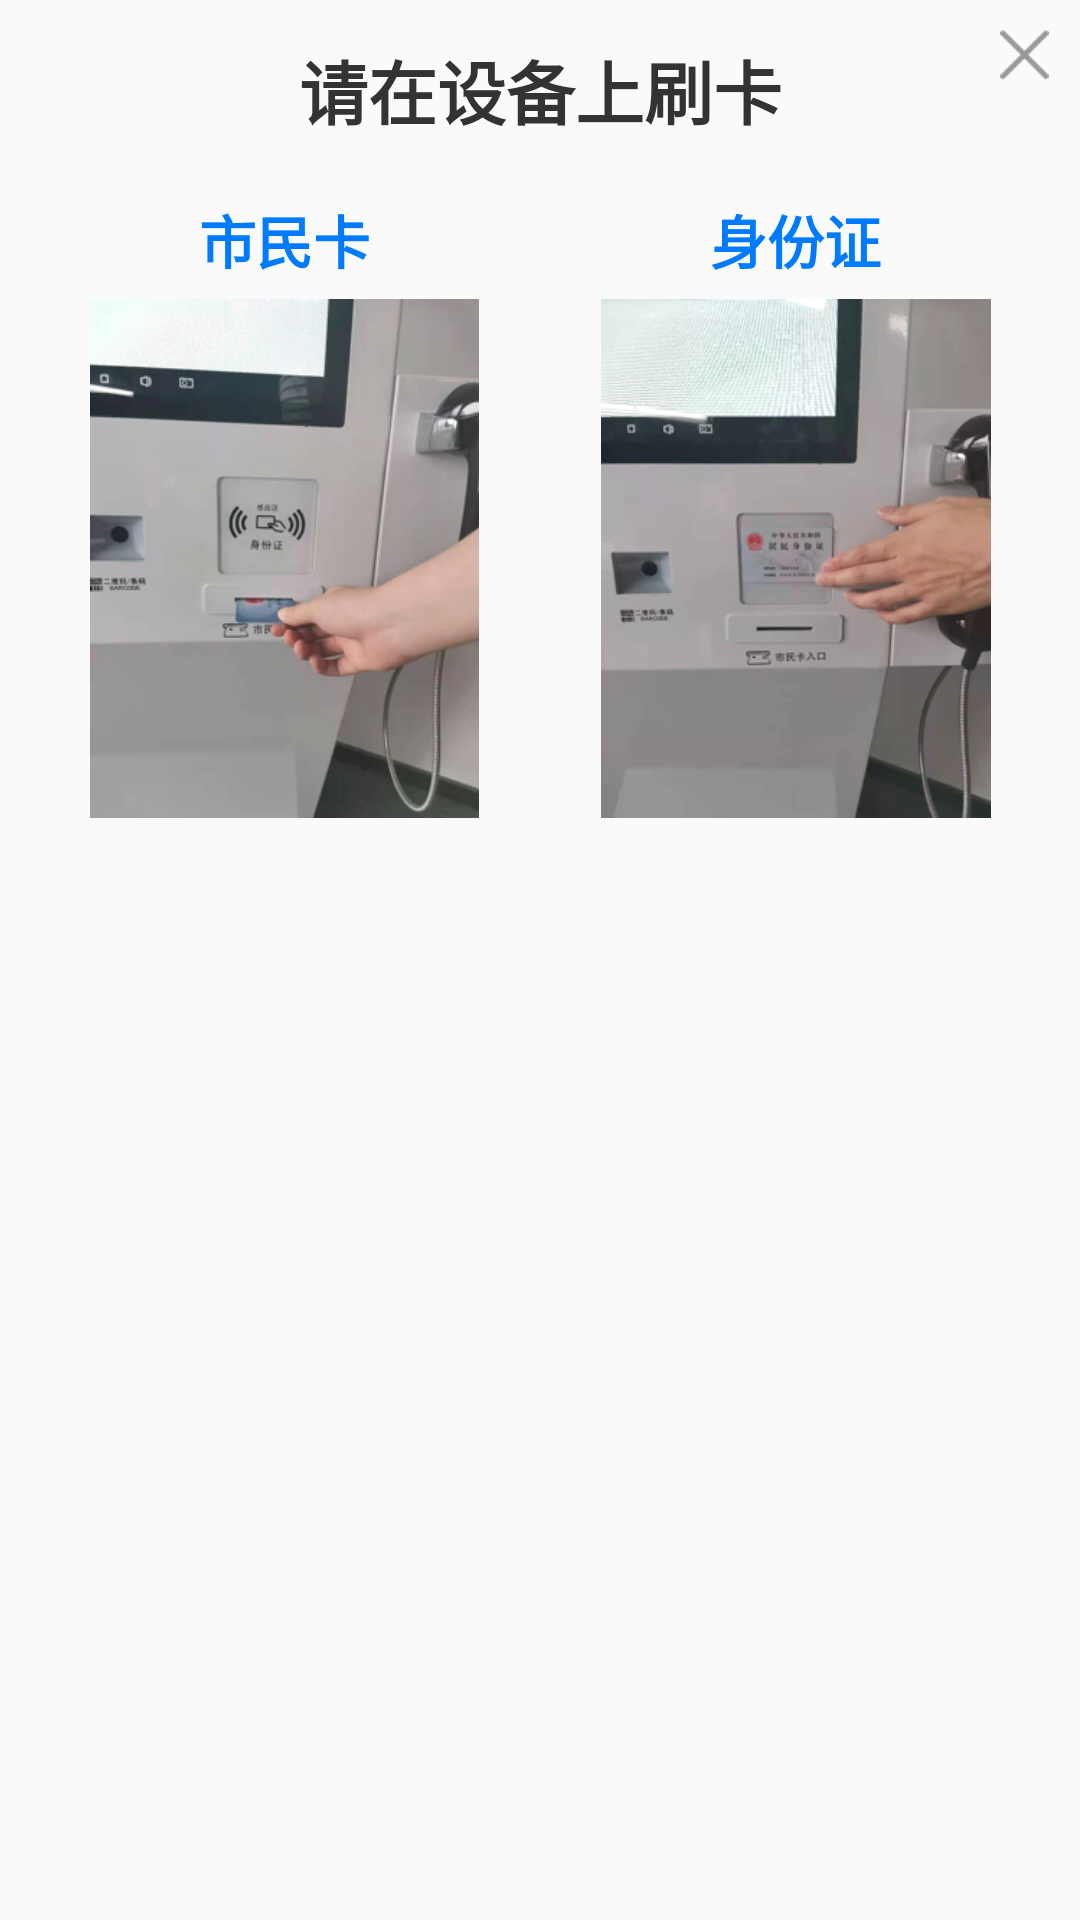

Locate icon controls on the screen. Image size 1080px x 1920px, boxes as (x1, y1, x2, y2).
close dialog: (1000, 30, 1049, 79)
